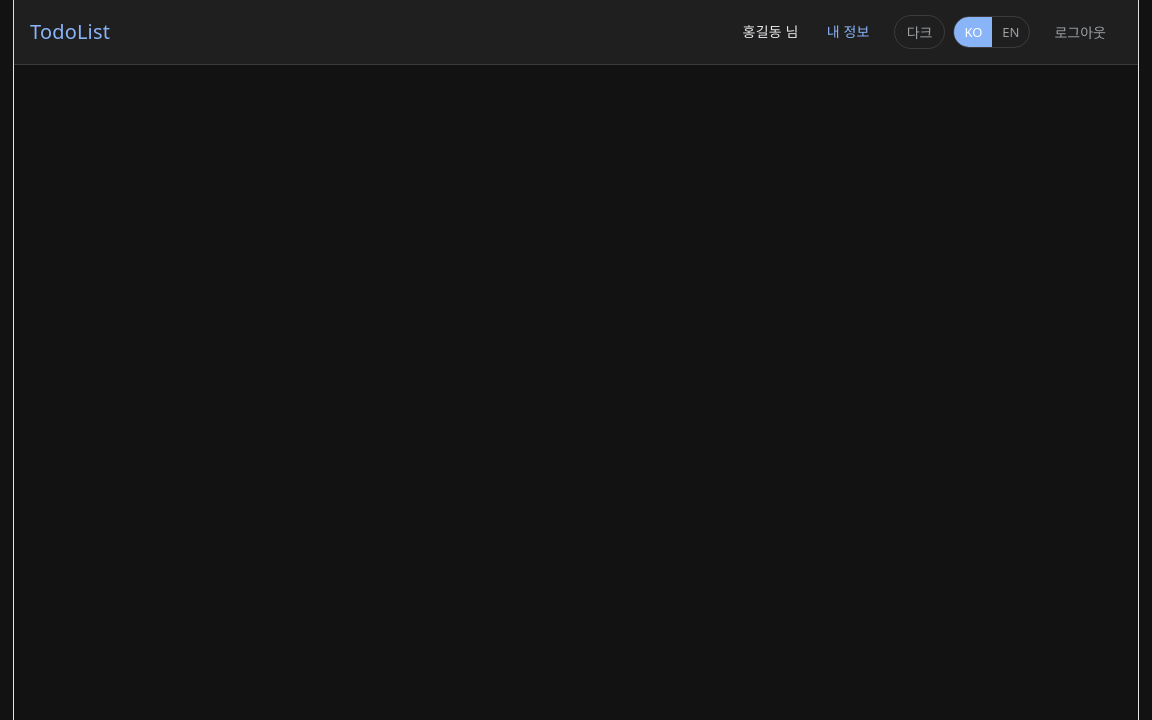
Test: Header — 언어 전환 › 언어 API 저장 실패 시 에러 메시지를 표시한다
Click the button with aria-label "영어로 전환". click: point(1011, 32)
box: [992,17,1030,47]
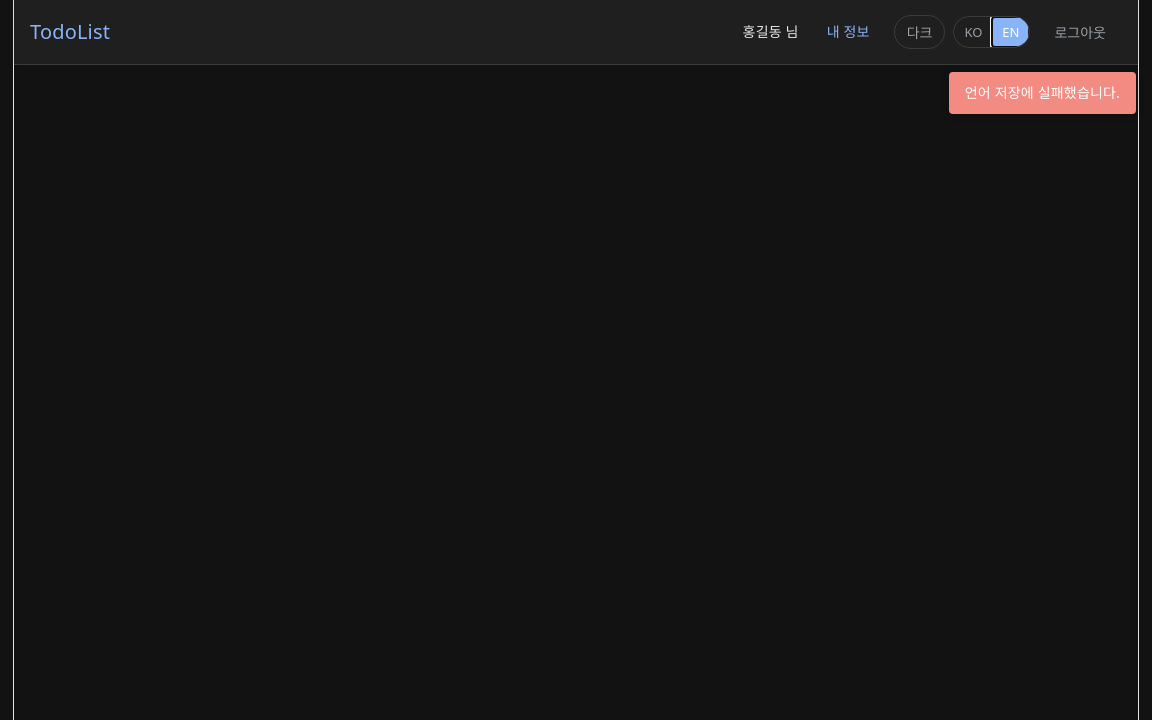
Result: the text "언어 저장에 실패했습니다." is shown at [949,72,1136,114]
